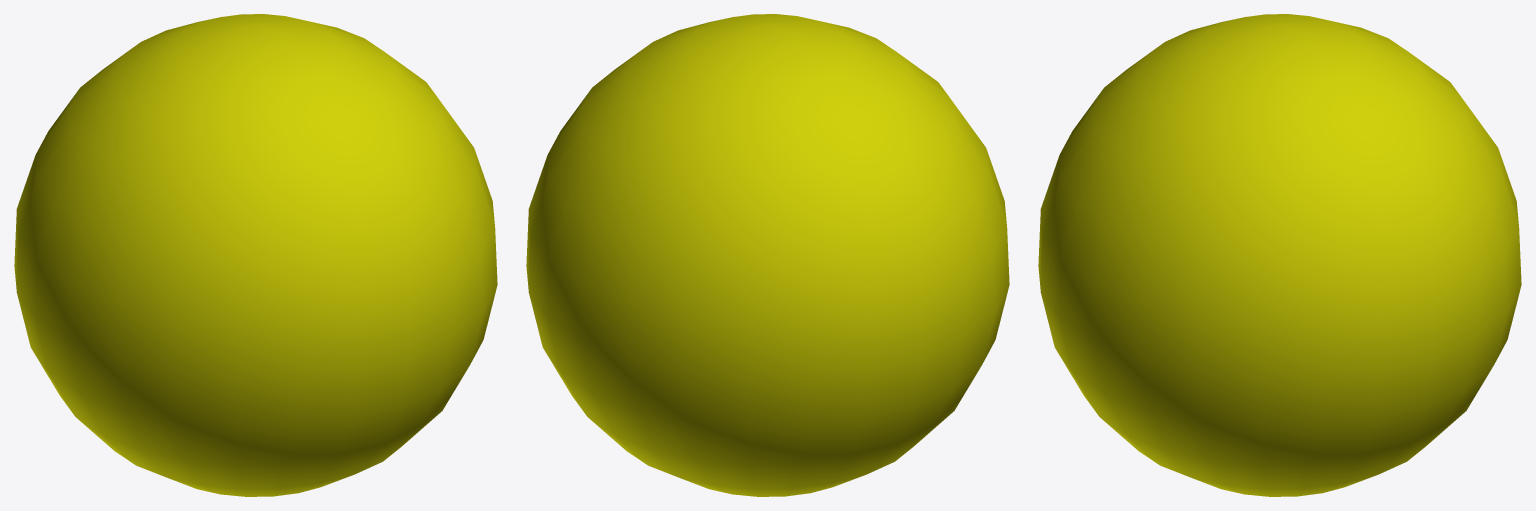
The model's file is Ball.dae.
3 views of the same model, side by side, from view 1: azimuth 30°, elevation 25°; view 2: azimuth 150°, elevation 25°; view 3: azimuth 270°, elevation 25° (orthographic).
Visible parts, largest first — view 1: Model; view 2: Model; view 3: Model.
Part boxes in pixels (x1,y1,x2,y2): Model: [14, 14, 497, 496]; Model: [526, 14, 1009, 496]; Model: [1038, 14, 1521, 496].
Size of the model in its own units: 418 by 418 by 416.
